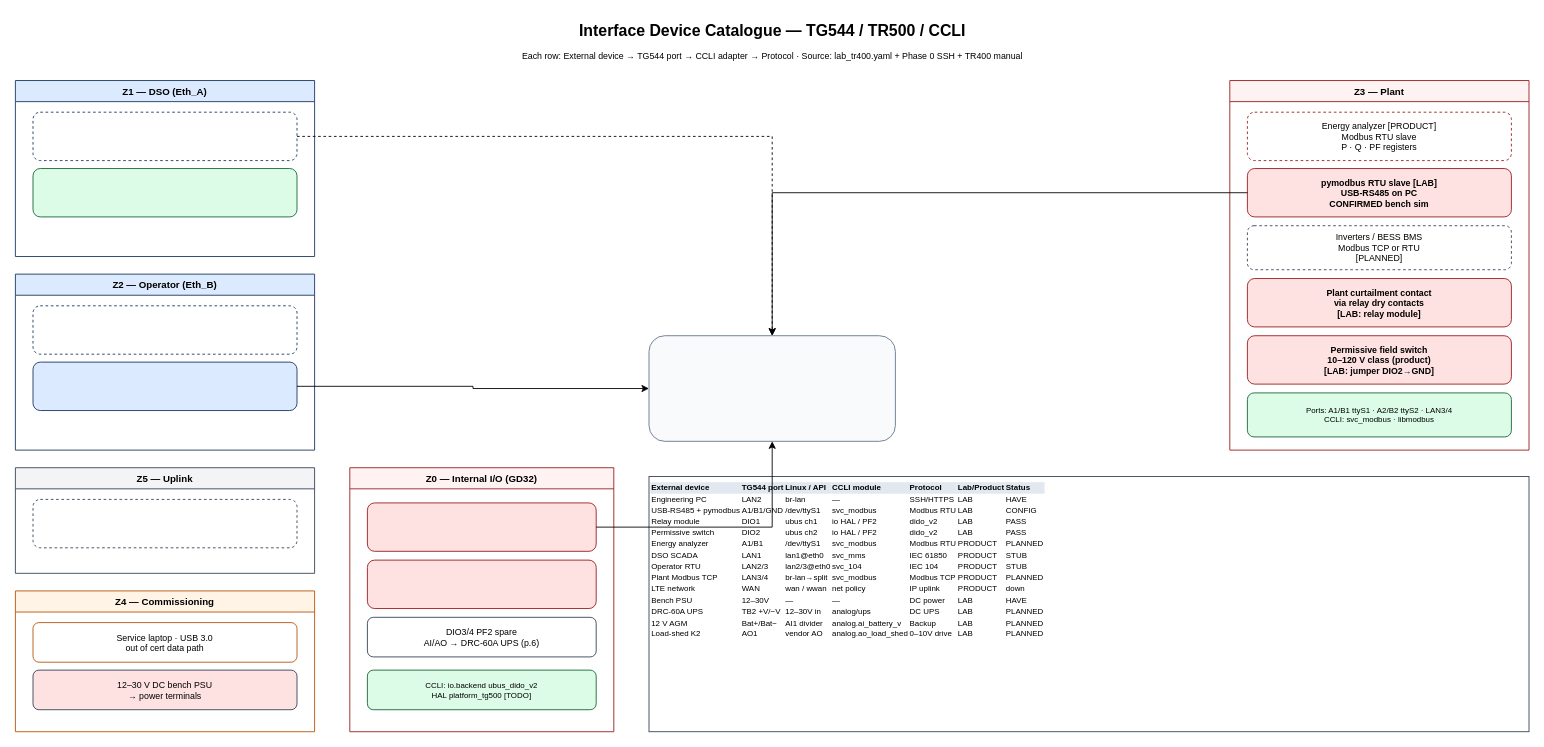
Some shapes in this 1544 by 747 pixel diagram are drawn without their labels. Each missing label, with the centre of its shape:
4G LTE network / modem → WAN · no path to Eth_A [down in lab]: (164,523)
DSO SCADA / RTU 61850 MMS client TLS (62351-4): (164,136)
Engineering PC [LAB] SSH · LuCI · 192.168.1.x CONFIRMED on LAN2: (164,386)
Operatore Abilitato IEC 60870-5-104 master: (164,329)
Permissive DI ← DIO2 ch2 ubus CONFIRMED smoke PASS: (481,584)
Port: LAN1 → lan1@eth0 Target: 192.168.20.20/24 CCLI: svc_mms · libiec61850: (164,192)
Relay module IN ← DIO1 DO ch1 ubus CONFIRMED smoke PASS: (481,526)
TG544 Gateway (centre): (771,388)
